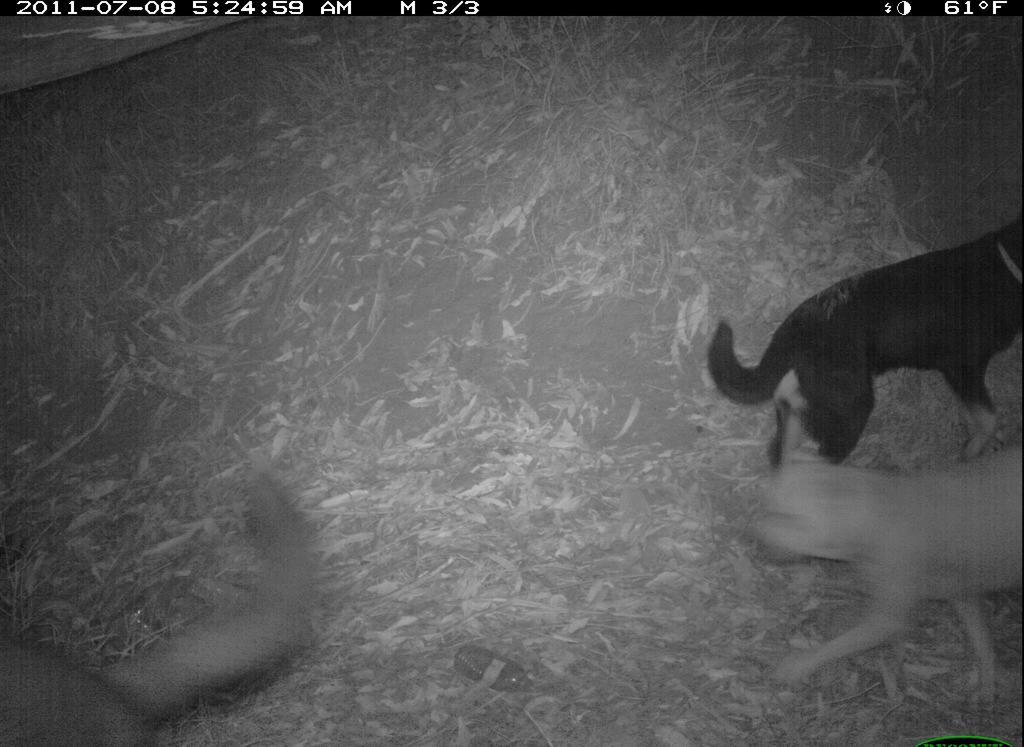dog: (697, 200, 1021, 489), (3, 463, 331, 747), (741, 403, 1023, 722)
